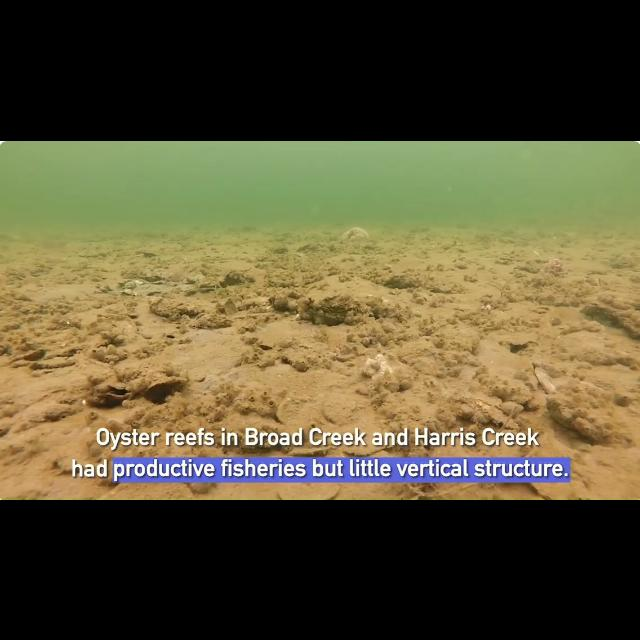Oyster-Closed: (234, 382, 280, 418), (321, 387, 361, 427), (318, 290, 360, 326), (148, 293, 202, 321), (271, 480, 345, 500), (542, 391, 582, 427), (143, 374, 194, 400), (101, 313, 147, 339), (480, 404, 520, 432), (522, 356, 570, 378), (336, 443, 394, 459), (506, 332, 544, 356), (508, 378, 540, 406), (400, 436, 436, 460), (31, 357, 80, 373), (338, 223, 372, 244), (379, 389, 411, 411), (288, 444, 338, 458), (401, 419, 434, 437), (534, 368, 556, 394), (571, 376, 605, 392), (223, 268, 253, 286), (135, 270, 173, 284), (471, 392, 501, 406), (376, 372, 398, 391), (395, 370, 415, 390), (290, 356, 314, 372), (195, 280, 219, 294), (252, 338, 276, 352), (498, 401, 526, 413), (222, 298, 238, 318), (456, 402, 476, 418), (24, 346, 48, 359), (133, 246, 159, 258), (258, 352, 280, 366), (274, 292, 288, 312), (270, 242, 292, 254), (470, 408, 486, 424), (336, 340, 350, 356), (367, 392, 385, 404), (297, 242, 313, 252), (216, 298, 224, 312), (332, 347, 342, 357)
Oyster-Open: (102, 381, 134, 402), (585, 274, 607, 288), (194, 312, 213, 324), (414, 294, 430, 302), (630, 268, 640, 272)
